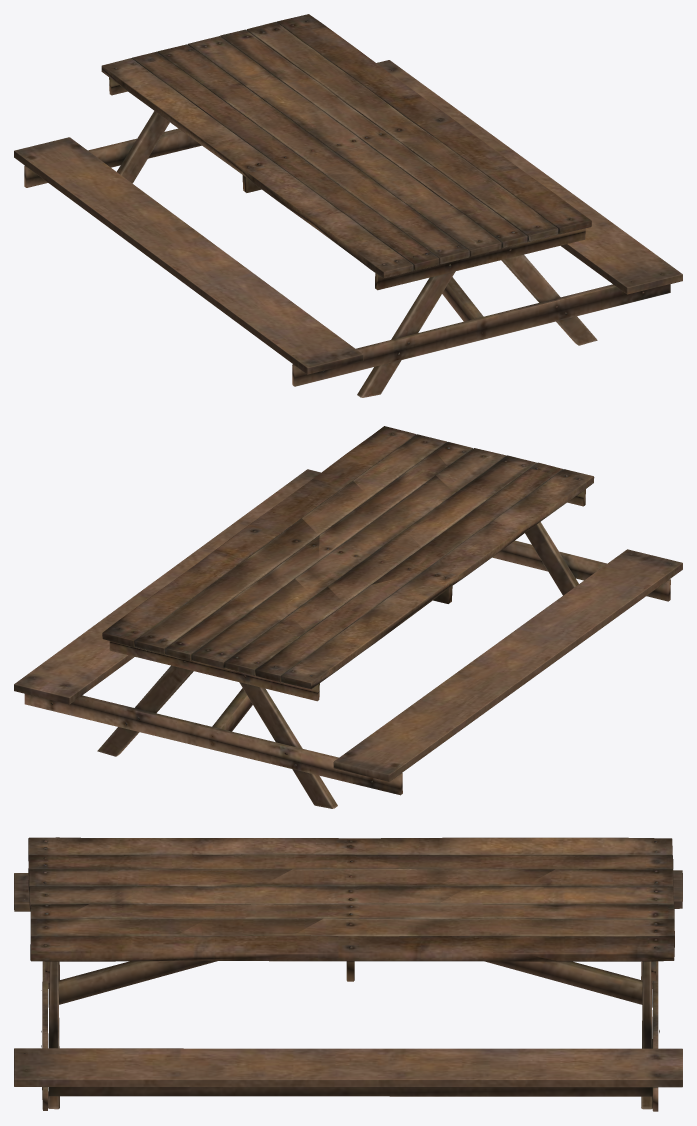
Rendered from wooden_picnic_table.glb.
3 views of the same model, one above another, from view 1: azimuth 30°, elevation 25°; view 2: azimuth 150°, elevation 25°; view 3: azimuth 270°, elevation 25° (orthographic). The views are drawn at different scales.
Visible parts, largest first — view 1: wooden_picnic_table; view 2: wooden_picnic_table; view 3: wooden_picnic_table.
Part boxes in pixels (box(x1,y1,x2,y2)): wooden_picnic_table: box(14, 14, 682, 397); wooden_picnic_table: box(14, 426, 682, 808); wooden_picnic_table: box(14, 837, 682, 1111).
Bounding box in the file's own units: 2.24 × 0.746 × 3.02.
Materials: 2 (2 with a texture image).
